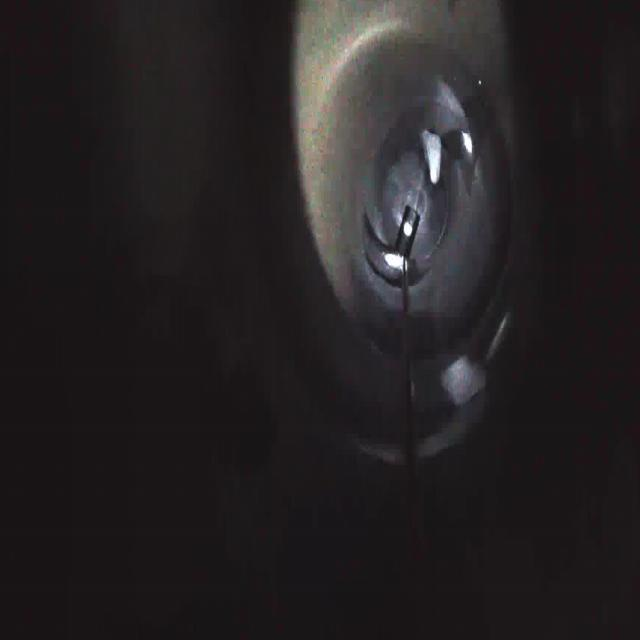impurity: (416, 120, 446, 186)
